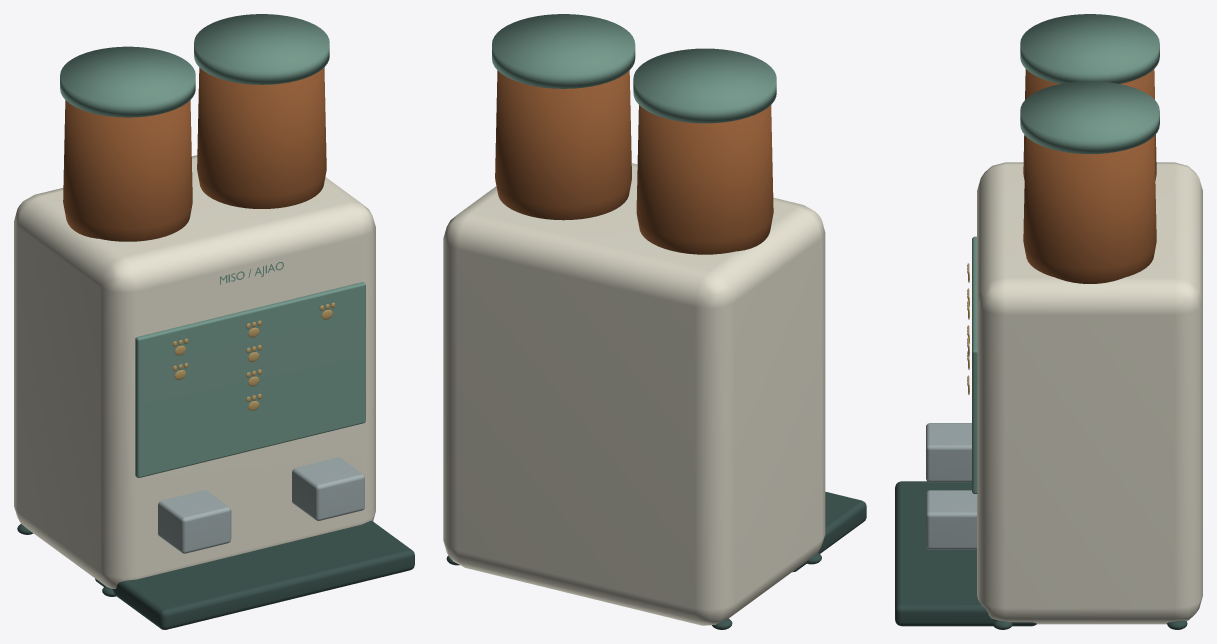
The model's file is feeder.glb.
3 views of the same model, side by side, from view 1: azimuth 30°, elevation 25°; view 2: azimuth 150°, elevation 25°; view 3: azimuth 270°, elevation 25° (orthographic). The views are drawn at different scales.
Parts seen in each view (by area): view 1: feeder; view 2: feeder; view 3: feeder.
Part boxes in pixels (left/top/right/bottom): feeder: left=14, top=14, right=414, bottom=629; feeder: left=443, top=14, right=866, bottom=629; feeder: left=895, top=14, right=1202, bottom=629.
Size of the model in its own units: 0.63 by 1.05 by 0.6.
